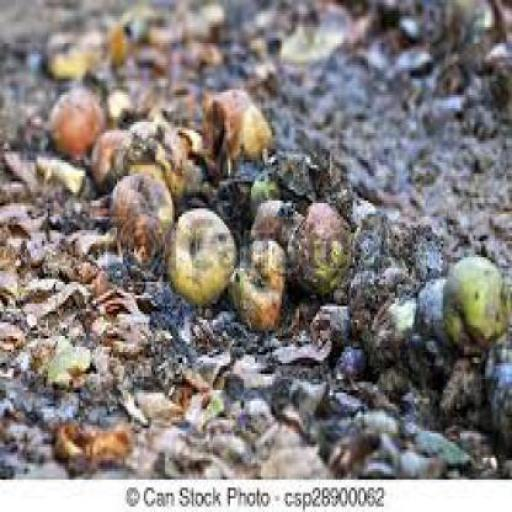biodegradable: (163, 201, 236, 300), (437, 252, 505, 352), (105, 168, 173, 260), (113, 117, 186, 201), (286, 195, 349, 292), (366, 287, 430, 379), (228, 230, 286, 328), (247, 194, 303, 282), (207, 84, 268, 160), (172, 124, 230, 203), (44, 84, 104, 158), (412, 271, 453, 360), (88, 124, 136, 190), (248, 159, 284, 220), (44, 30, 86, 76)
